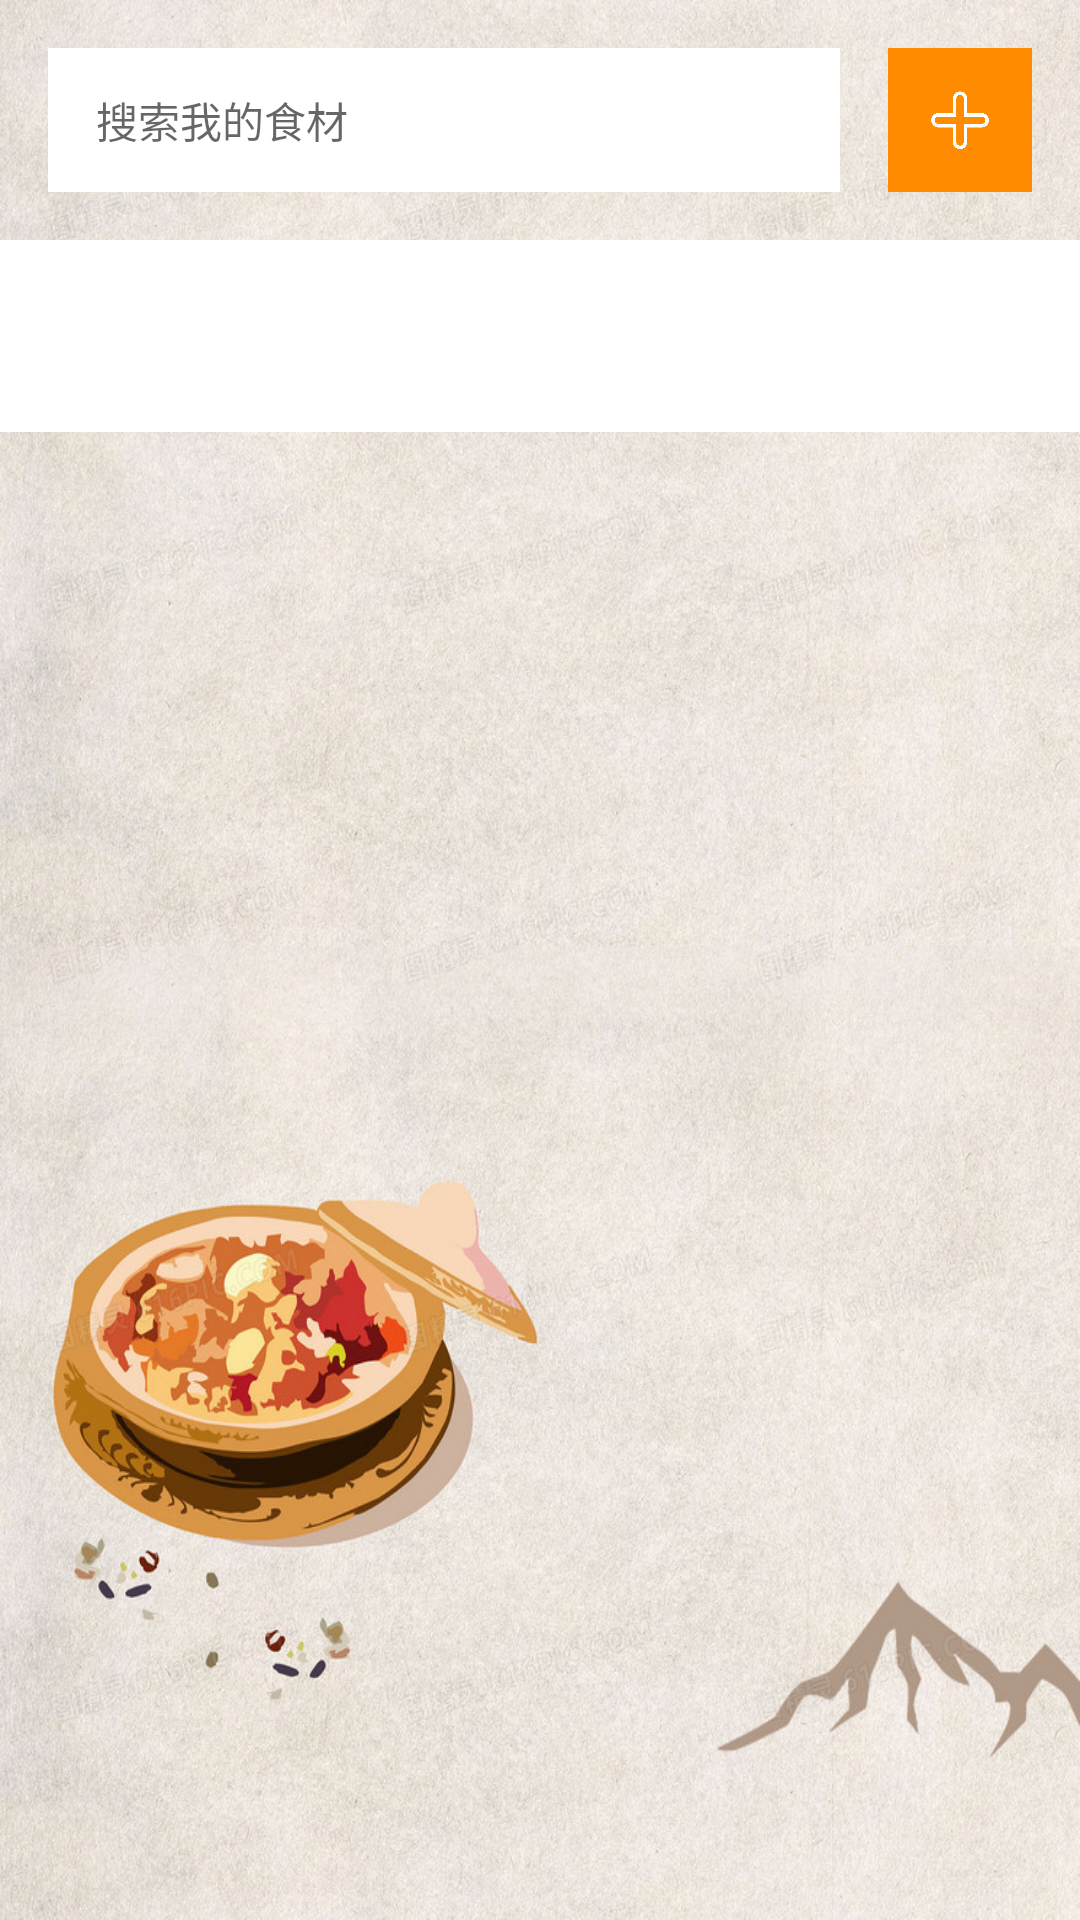

Icons on this 1080w x 1920h Android screen, each with the point to tap as (x,y):
添加食材: (960,120)
